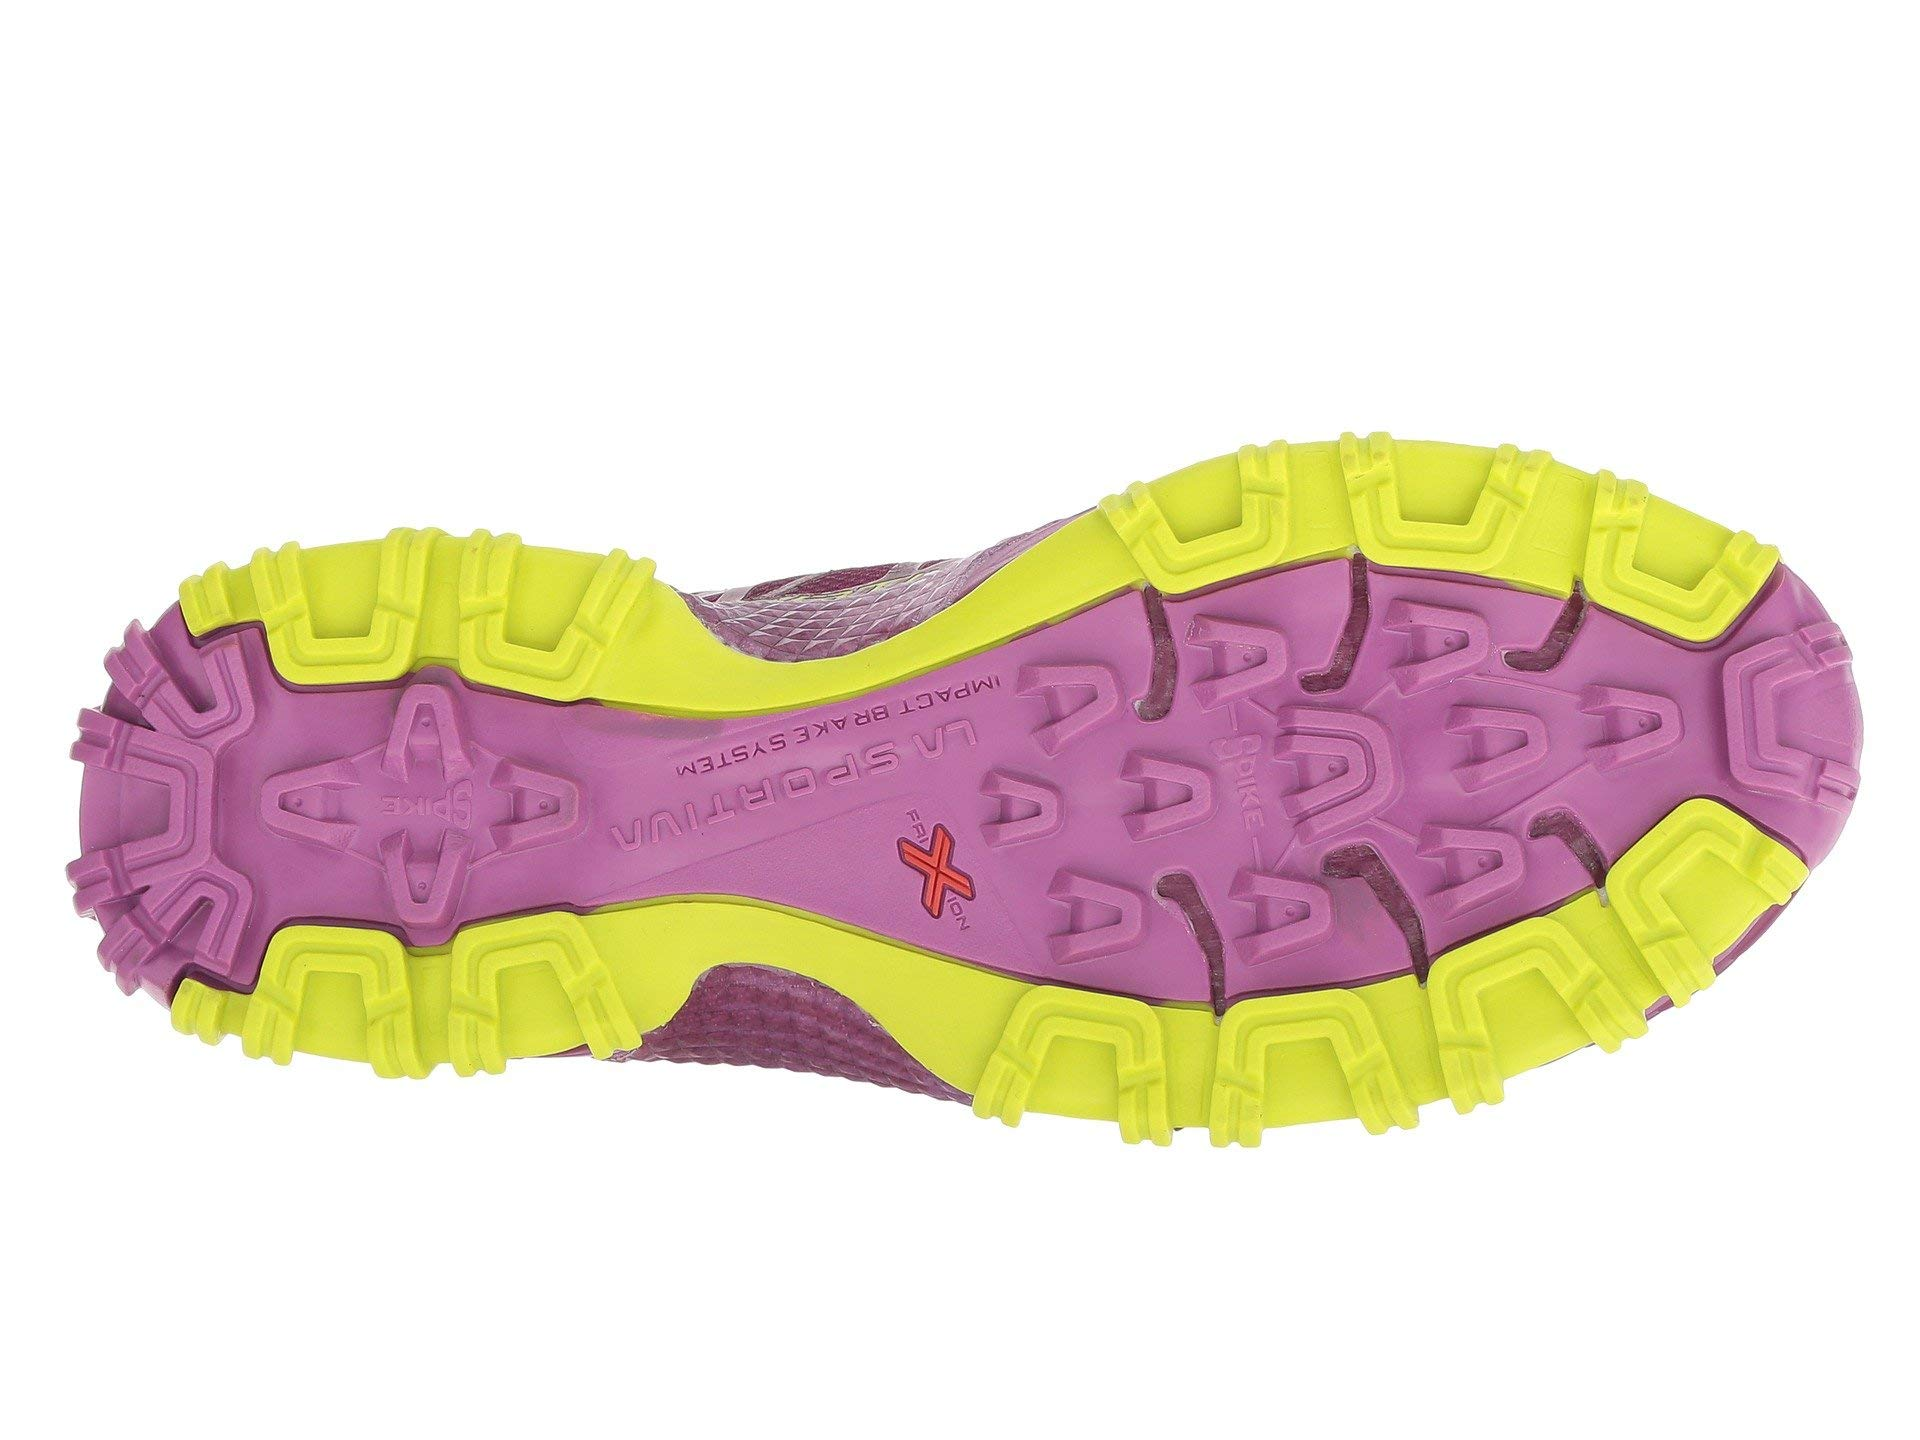circle: (1194, 709, 1291, 861)
quad: (590, 656, 1031, 880)
text: (590, 656, 1031, 880), (1194, 709, 1291, 861), (370, 768, 491, 846)
